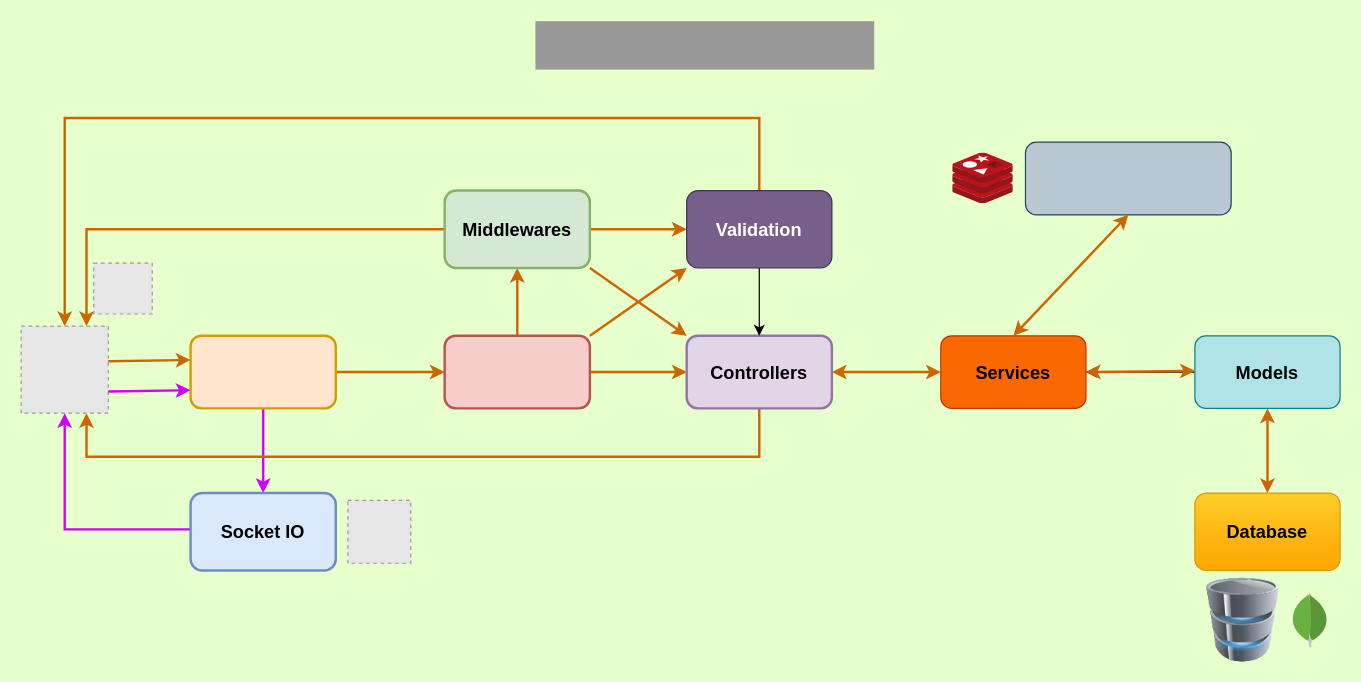
Some shapes in this 1361 by 682 pixel diagram are drawn without their labels. Grey dashed boxes stand in for pictures. Each missing label, with the centre of its shape:
"Redis for Background Jobs / Queues" goes at point 1127,178.
"Routes" goes at point 516,371.
"Server" goes at point 262,371.
"Trello Clone - BE Code Flow" goes at point 704,45.
